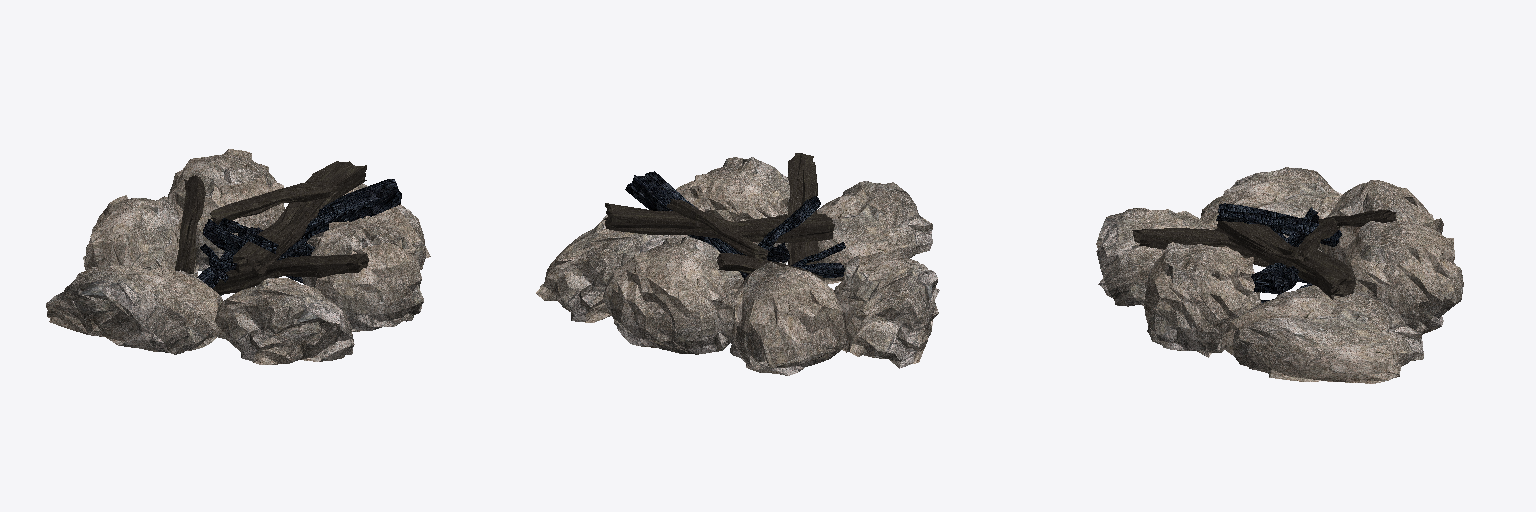
The picture shows the model from 3 angles: view 1: azimuth 30°, elevation 25°; view 2: azimuth 150°, elevation 25°; view 3: azimuth 270°, elevation 25°; orthographic projection.
Parts seen in each view (by area): view 1: Sphere008, Sphere004, Sphere005, Sphere007, Sphere003, Box033, Box035, Box034, Box026, Box031, Sphere006, Box029 (+2 smaller); view 2: Sphere003, Sphere007, Sphere008, Sphere004, Sphere006, Sphere005, Box033, Box035, Box034, Box026, Box032, Box031; view 3: Sphere006, Sphere005, Sphere003, Sphere004, Sphere008, Box033, Sphere007, Box035, Box032, Box034, Box026, Box031.
Part boxes in pixels (x1,y1,x2,y2): Sphere008: (46,263,222,354); Sphere004: (212,278,354,364); Sphere005: (302,216,423,331); Sphere007: (83,195,198,276); Sphere003: (168,149,284,271); Box033: (233,161,366,275); Box035: (213,253,368,294); Box034: (220,179,401,295); Box026: (210,180,331,224); Box031: (175,175,205,273); Sphere006: (307,183,430,269); Box029: (203,219,303,283); Sphere003: (602,236,743,354); Sphere007: (730,262,848,375); Sphere008: (834,252,939,368); Sphere004: (817,181,932,283); Sphere006: (536,215,689,322); Sphere005: (676,157,789,263); Box033: (604,203,834,242); Box035: (787,153,818,265); Box034: (625,171,748,279); Box026: (666,199,769,259); Box032: (758,196,820,250); Box031: (717,253,824,280); Sphere006: (1222,285,1423,383); Sphere005: (1144,242,1260,357); Sphere003: (1343,221,1463,334); Sphere004: (1096,208,1213,306); Sphere008: (1200,167,1342,266); Box033: (1215,221,1356,299); Sphere007: (1317,180,1443,261); Box035: (1132,228,1269,266); Box032: (1216,203,1341,246); Box034: (1251,263,1309,294); Box026: (1291,218,1337,261); Box031: (1318,210,1396,226).
Size of the model in its own units: 1.24 by 0.3082 by 1.09.
Materials: 3 (3 with a texture image).